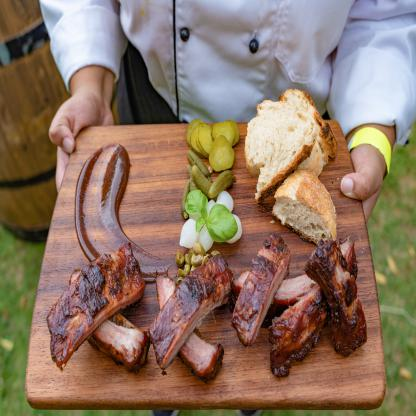Carne: (48, 237, 143, 371), (147, 244, 231, 377), (307, 233, 368, 358), (234, 232, 292, 344), (266, 283, 330, 384)
